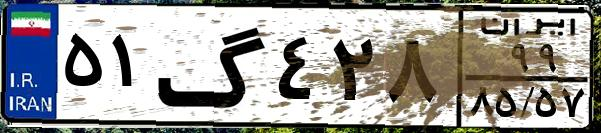1: (110, 28, 156, 98)
2: (330, 28, 385, 110)
4: (270, 28, 330, 110)
5: (57, 26, 110, 100), (495, 70, 520, 125), (535, 70, 560, 125)
7: (560, 70, 590, 125)
8: (385, 28, 445, 110), (470, 70, 495, 125)
9: (537, 27, 568, 80), (508, 27, 537, 80)
گ: (156, 12, 270, 120)
